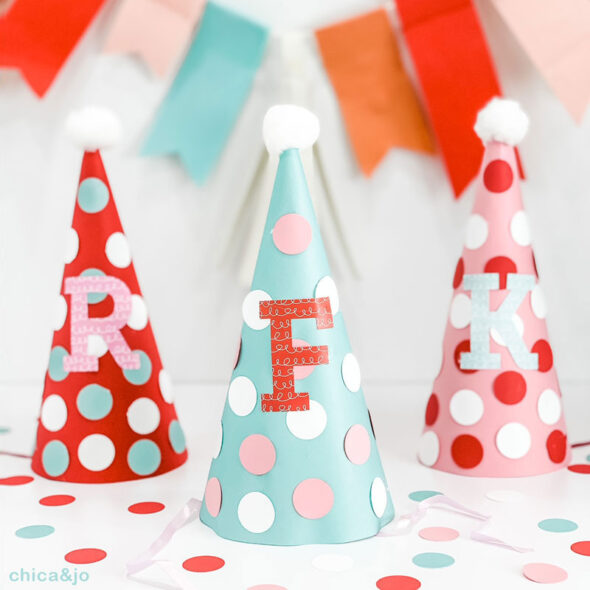cone: (200, 147, 394, 546), (32, 148, 190, 484), (416, 138, 572, 478)
